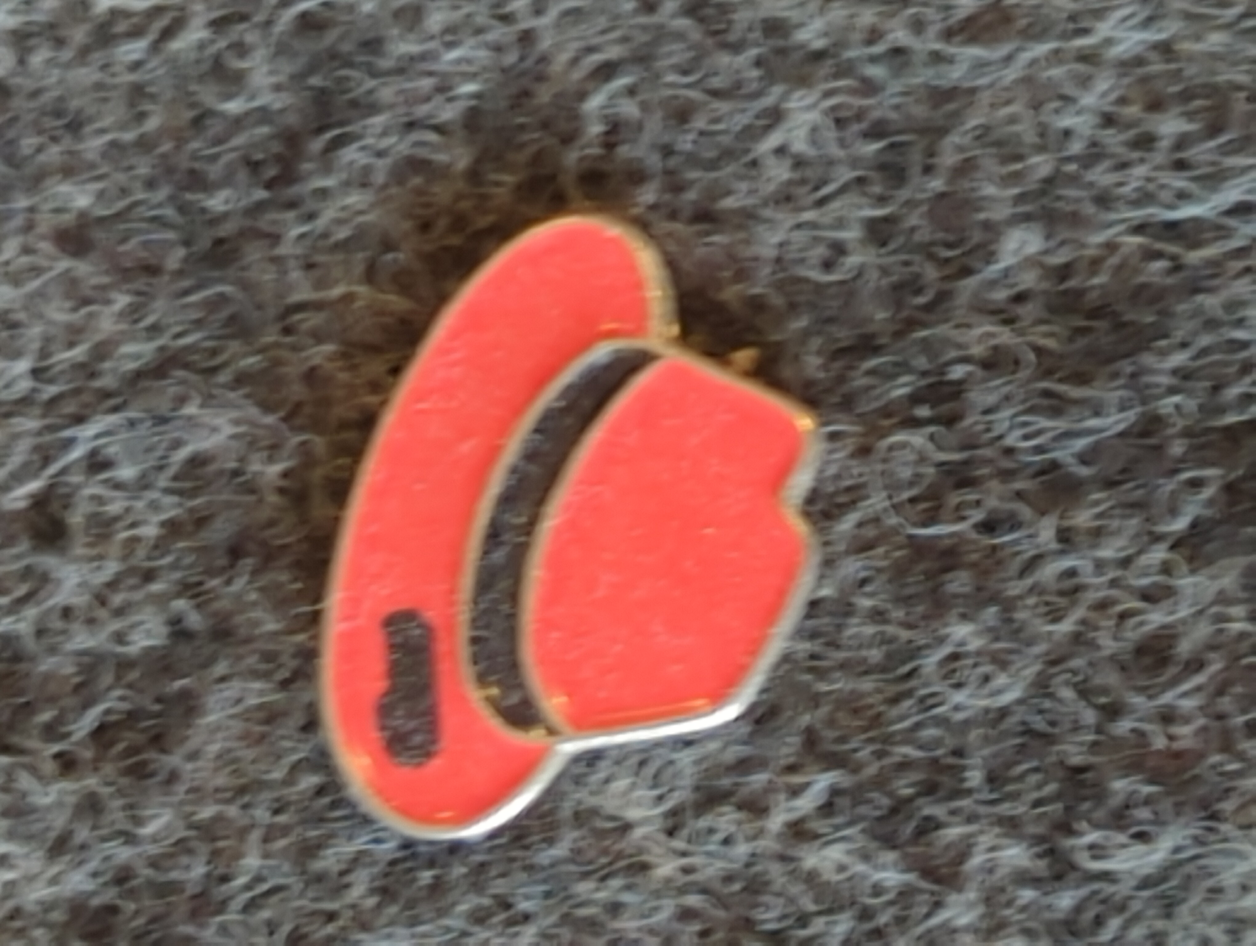Red-Hat: (211, 115, 923, 896)
Scratch: (326, 568, 483, 786)
